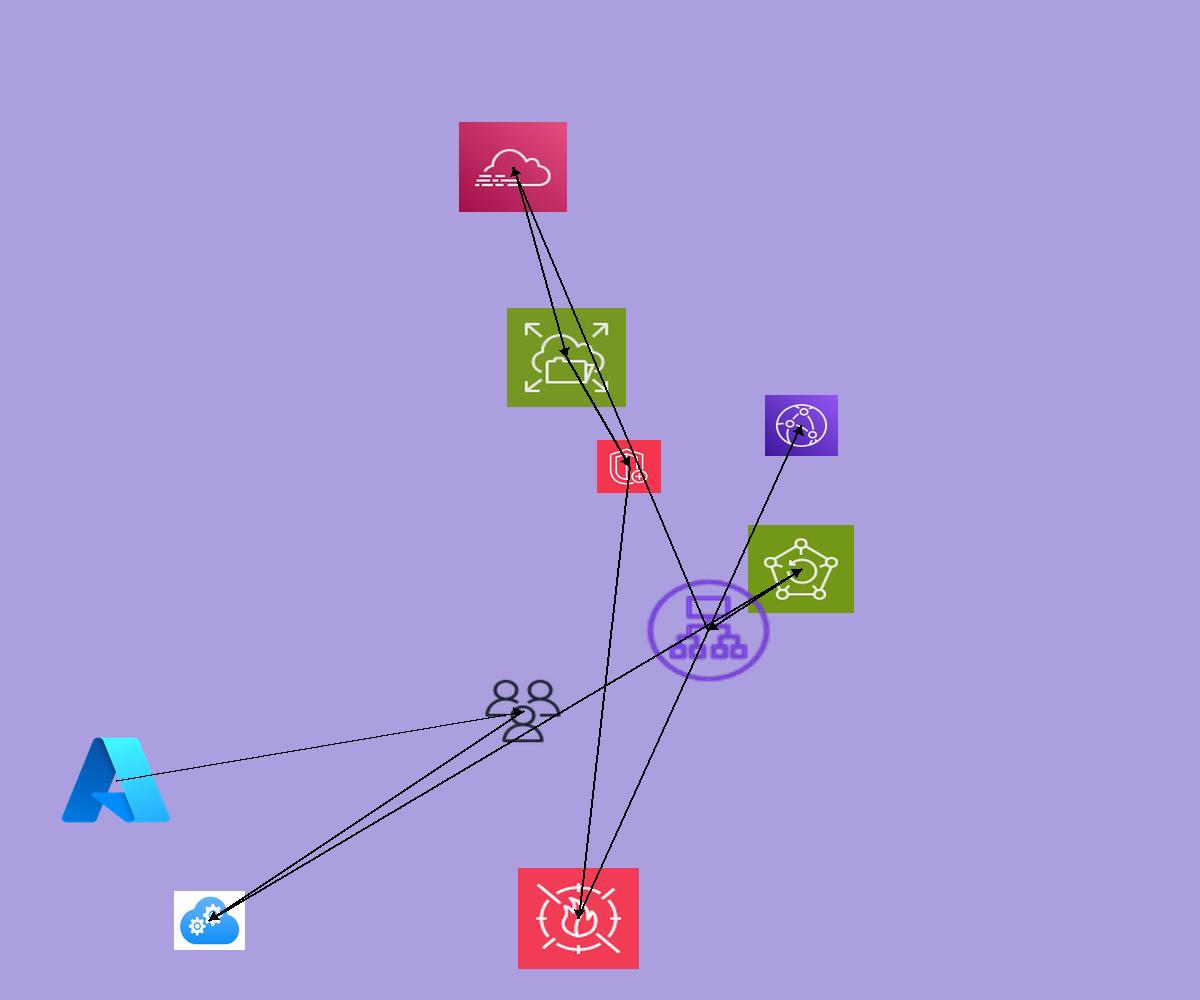AWS-Backup: (748, 525, 854, 613)
AWS-CloudFront: (765, 395, 838, 456)
AWS-CloudTrail: (459, 122, 567, 212)
AWS-EFS: (507, 308, 626, 407)
AWS-Res_Elastic-Load-Balancing_Application-Load-Balancer: (642, 575, 775, 686)
AWS-Res_Users: (482, 677, 564, 745)
AWS-Shield: (597, 440, 661, 493)
AWS-WAF: (518, 868, 639, 969)
Azure_cloud_services: (174, 891, 245, 950)
Azure_services: (57, 731, 175, 829)
